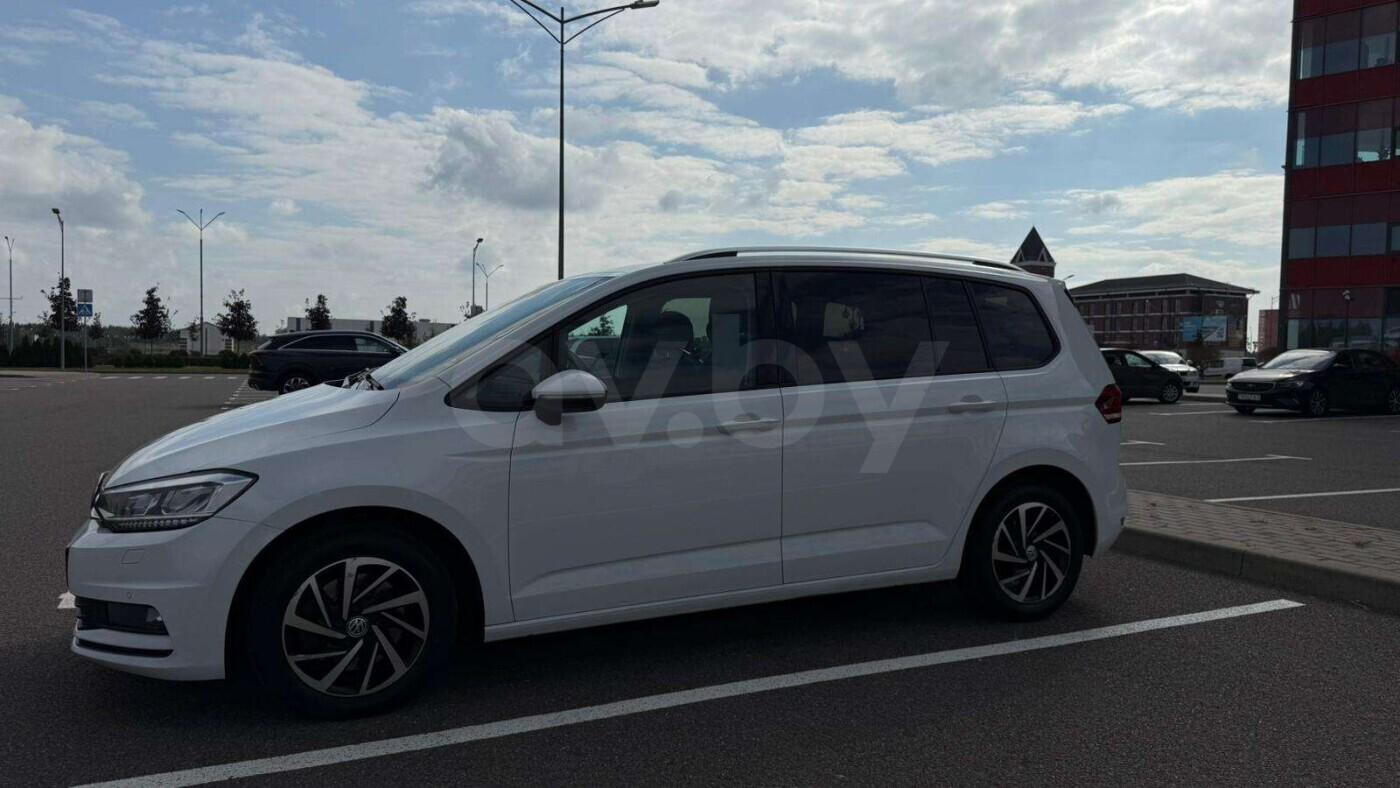Touran_2015: (62, 248, 1133, 712)
